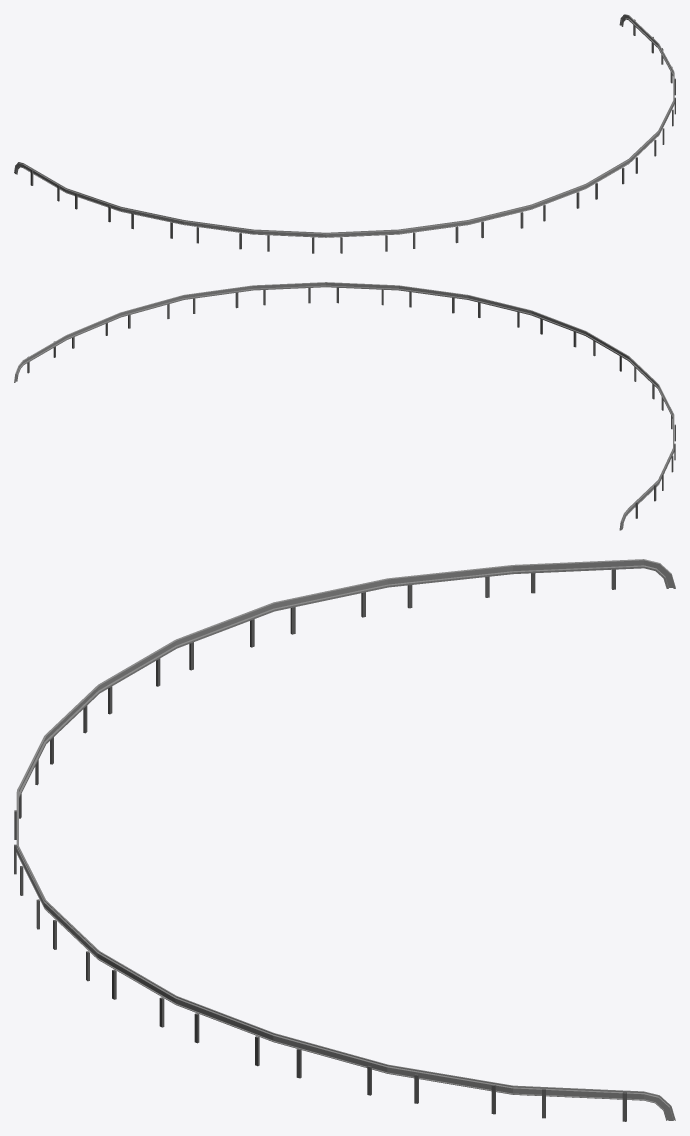
Rendered from BarriersTurn180.fbx.
The picture shows the model from 3 angles, top to bottom: view 1: azimuth 30°, elevation 25°; view 2: azimuth 150°, elevation 25°; view 3: azimuth 270°, elevation 25°; orthographic projection. The views are drawn at different scales.
Parts seen in each view (by area): view 1: barriersSmall.016; view 2: barriersSmall.016; view 3: barriersSmall.016.
Boxes of the visible parts, <box> form: barriersSmall.016: <box>14,14,675,253</box>; barriersSmall.016: <box>14,282,675,530</box>; barriersSmall.016: <box>14,559,675,1121</box>.
Size of the model in its own units: 6018 by 195 by 3156.
Materials: 1 (1 with a texture image).
